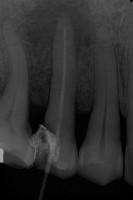Furcation Involvement: (23, 0, 98, 50)
